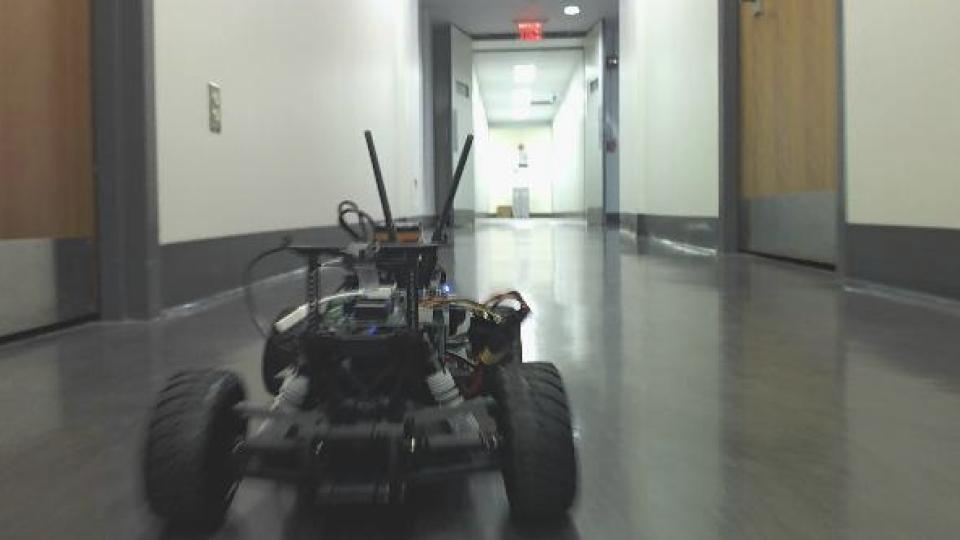car: (140, 127, 582, 538)
